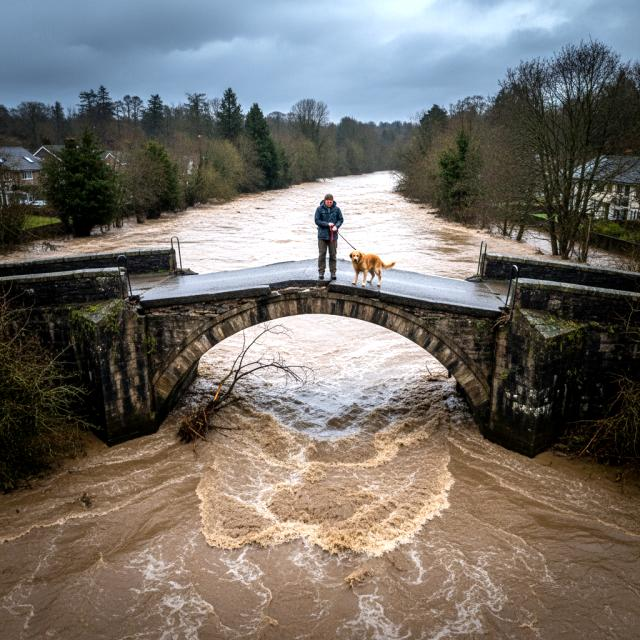dog: (348, 244, 398, 291)
rescuer: (313, 189, 348, 284)
